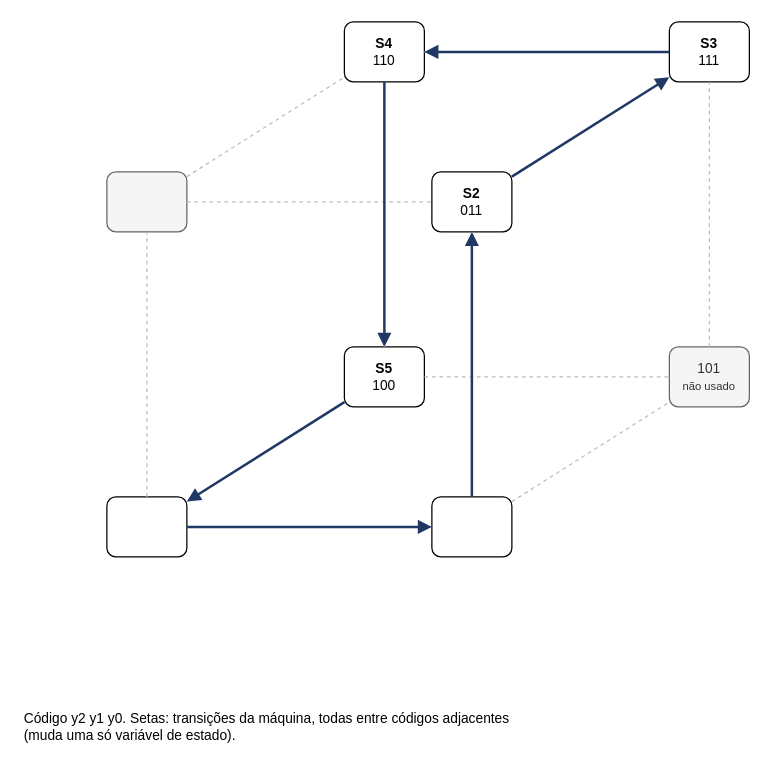
Image size: 771x774. Some labels were removed from this diagram. The box of each missing label's shape, as (x1, y1, x2, y2) in pixels:
010 não usado: (106, 171, 187, 232)
S0 000: (106, 496, 187, 557)
S1 001: (431, 496, 512, 557)
